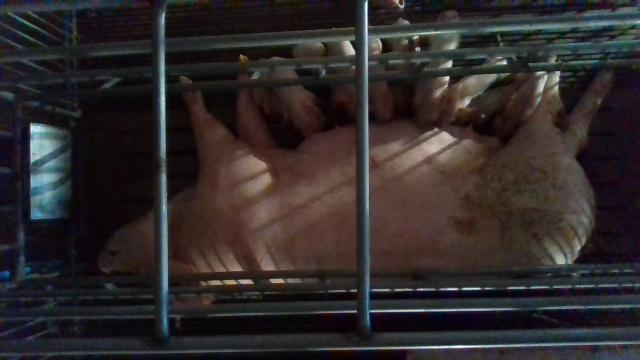piglet: (252, 57, 325, 136), (414, 8, 460, 125), (441, 57, 510, 126), (494, 70, 548, 140), (388, 18, 420, 118), (325, 41, 359, 124), (369, 37, 396, 124)
sow-sleep-lactate: (100, 73, 620, 302)
